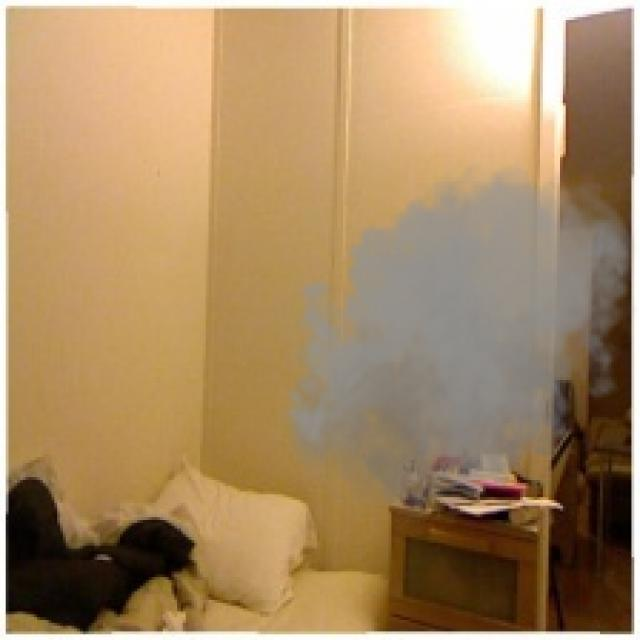Smoke: (274, 155, 637, 540)
